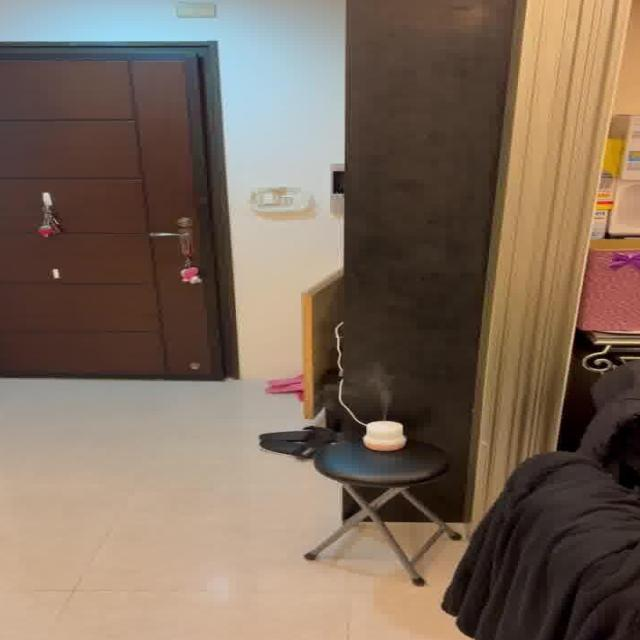fire: (352, 365, 402, 408)
